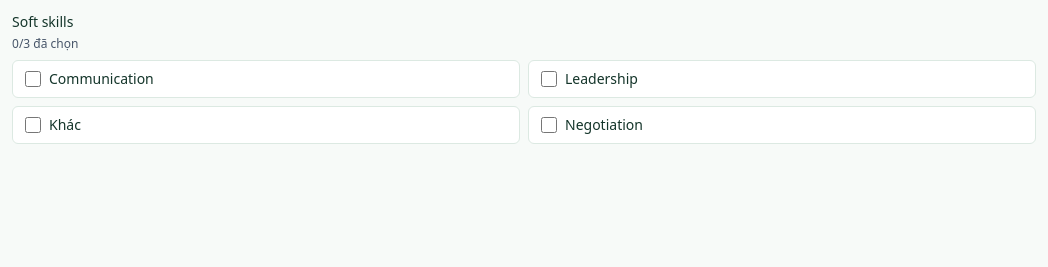
Test: application required and error-navigation UX › blocks a fourth choice and conditionally requires the Other explanation
Click the checkbox labelled "Communication" at (33, 79), box [25,71,41,87]
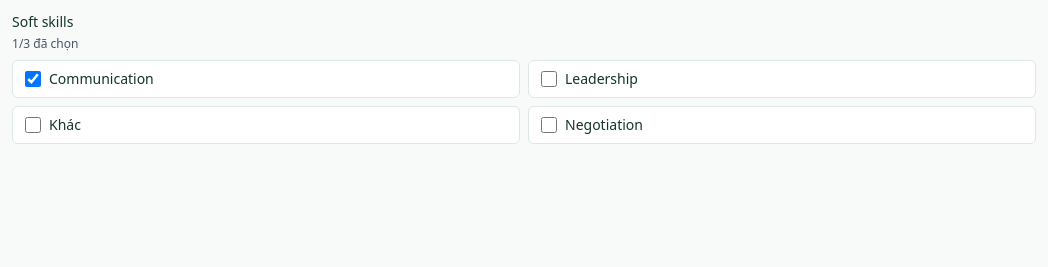
Click the checkbox labelled "Leadership" at (549, 79), box [541,71,557,87]
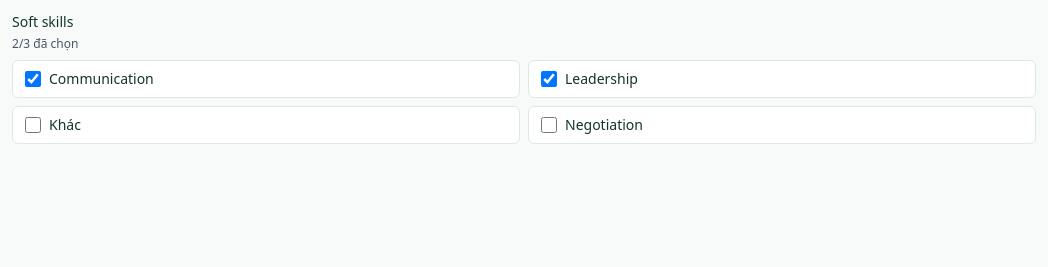
Click the checkbox labelled "Khác" at (33, 125), box [25,117,41,133]
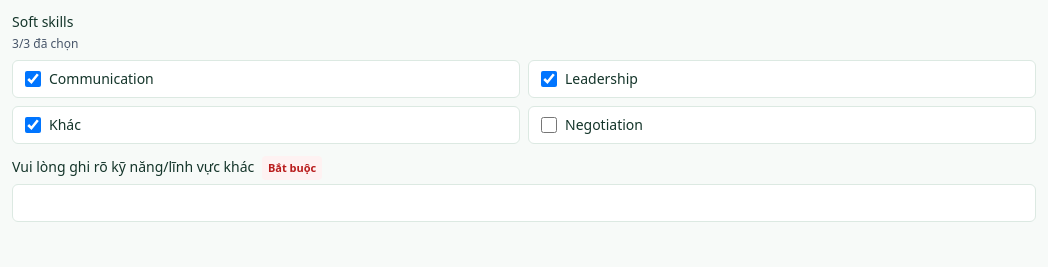
Click the checkbox labelled "Negotiation" at (549, 125), box [541,117,557,133]
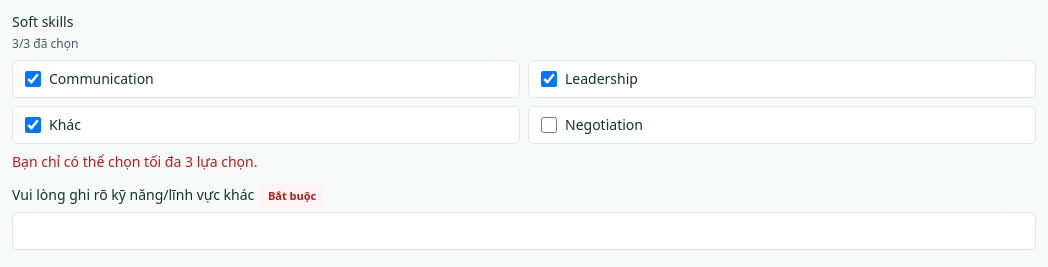
Expected: the text "Bạn chỉ có thể chọn tối đa 3 lựa chọn." is shown, [12,152,257,171]
Click the checkbox labelled "Khác" at (33, 125), box [25,117,41,133]
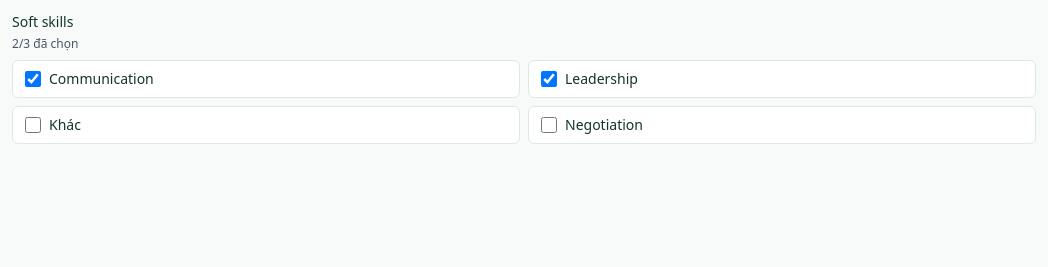
Expected: the label "Vui lòng ghi rõ" is gone
